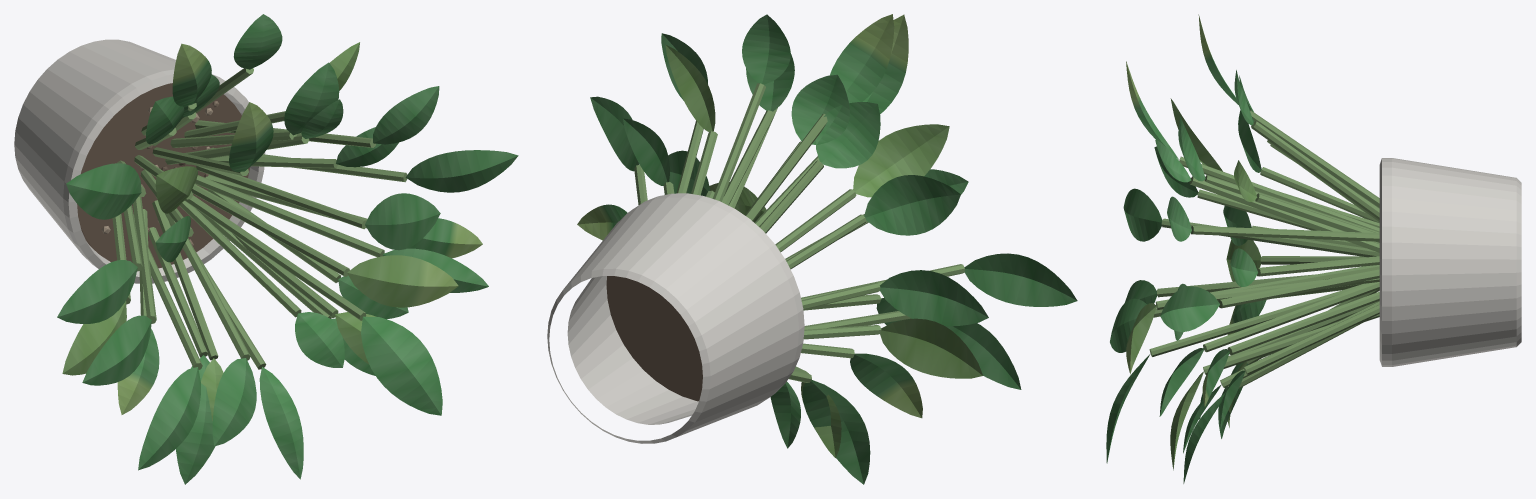
The model's file is zamioculca_LUMA_3D.glb.
The picture shows the model from 3 angles, left to right: view 1: azimuth 30°, elevation 25°; view 2: azimuth 150°, elevation 25°; view 3: azimuth 270°, elevation 25°; orthographic projection. The views are drawn at different scales.
Parts seen in each view (by area): view 1: world; view 2: world; view 3: world.
Part boxes in pixels (x1,y1,x2,y2): world: (14, 14, 518, 484); world: (547, 14, 1077, 484); world: (1106, 14, 1521, 483).
Size of the model in its own units: 1.95 by 1.87 by 1.67.
